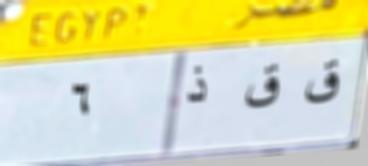6: (66, 78, 104, 120)
qaaf: (241, 60, 284, 116), (304, 56, 345, 109)
zaal: (183, 63, 213, 109)
